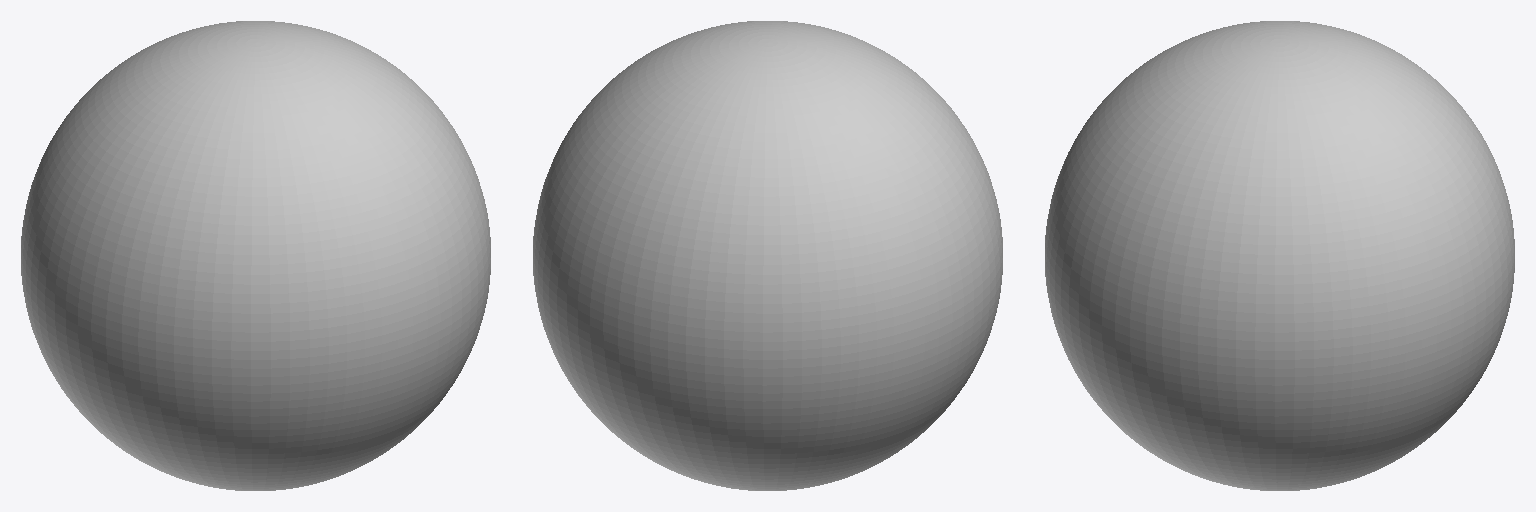
The model's file is SphereHD.obj.
3 renders of one model, left to right at view 1: azimuth 30°, elevation 25°; view 2: azimuth 150°, elevation 25°; view 3: azimuth 270°, elevation 25°, orthographic.
Parts seen in each view (by area): view 1: Sphere; view 2: Sphere; view 3: Sphere.
Boxes of the visible parts, <box> form: Sphere: <box>21,21,490,490</box>; Sphere: <box>533,21,1002,490</box>; Sphere: <box>1045,21,1514,490</box>.
Bounding box in the file's own units: 2 × 2 × 2.